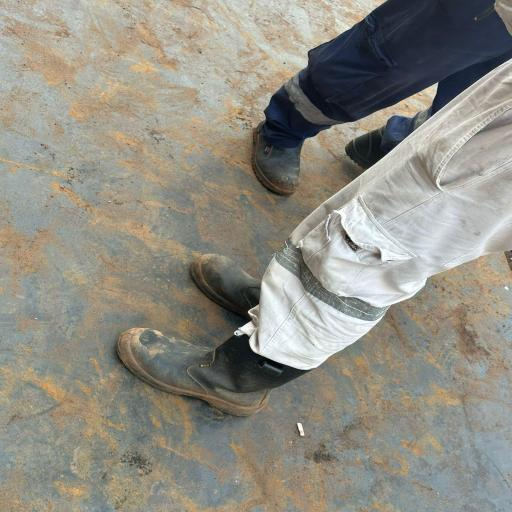safety_shoe: (113, 314, 313, 419), (180, 249, 274, 314), (251, 110, 313, 196)
